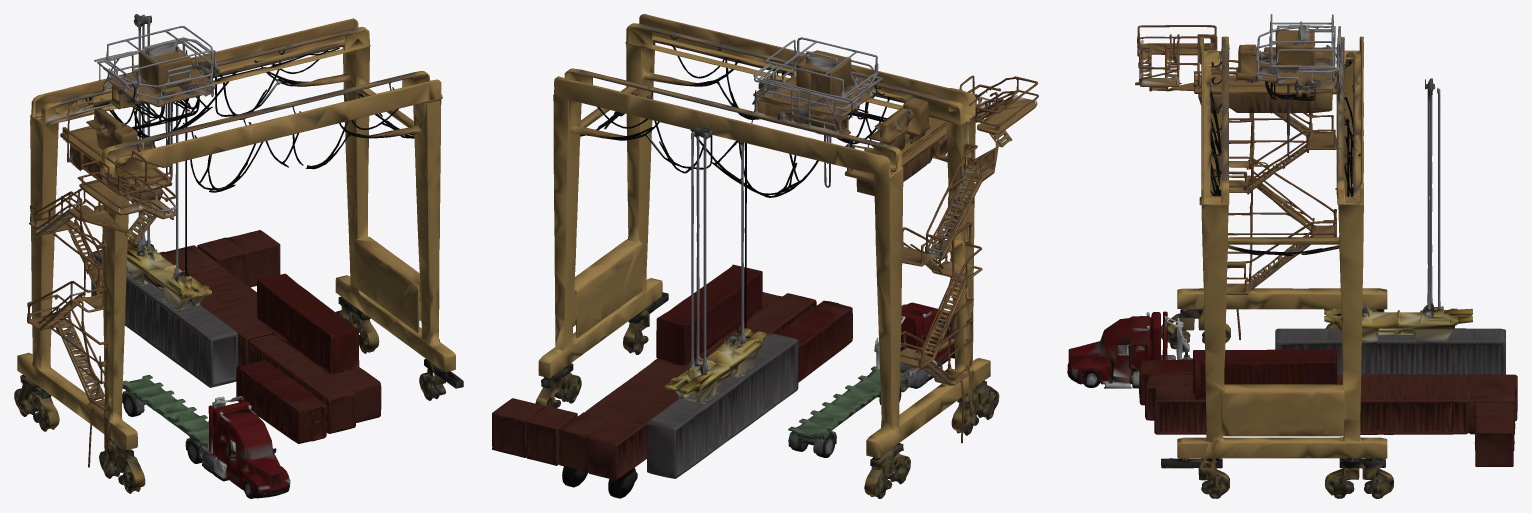
Rendered from gantry.glb.
The picture shows the model from 3 angles, left to right: view 1: azimuth 30°, elevation 25°; view 2: azimuth 150°, elevation 25°; view 3: azimuth 270°, elevation 25°; orthographic projection. The views are drawn at different scales.
Size of the model in its own units: 0.8885 by 0.8857 by 0.9957.
